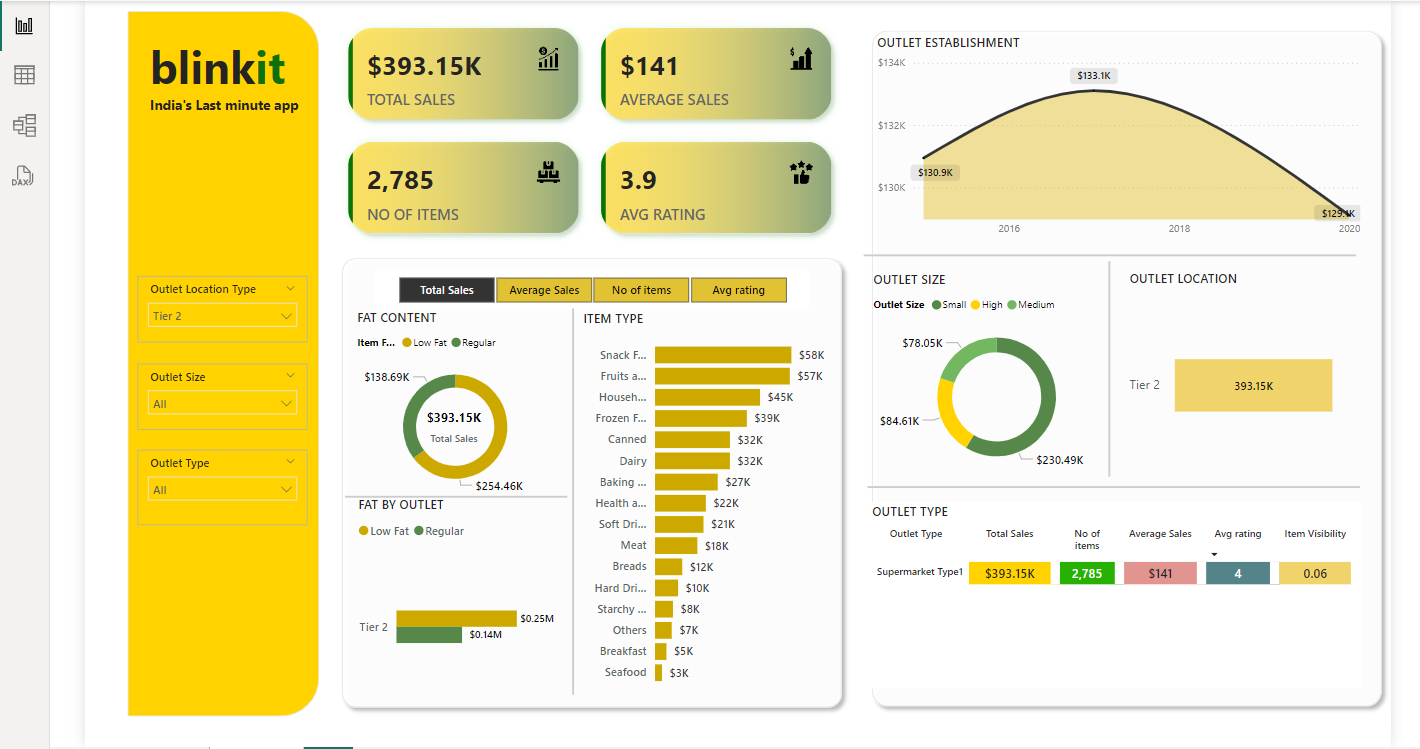

The dashboard page shown, as its layout file describes it:
{"tool":"powerbi","page":{"name":"Page 1","canvas":[1400,800],"ordinal":0},"visuals":[{"type":"shape","box":[45,10.5,205.6,756.4],"z":0},{"type":"textbox","box":[64.5,31.5,175.6,79.5],"z":1000},{"type":"textbox","box":[57,96.1,183.1,30],"z":2000},{"type":"cardVisual","fields":{"Data":["BlinkIT Grocery Data.Total Sales","BlinkIT Grocery Data.Average Sales","BlinkIT Grocery Data.No of items","BlinkIT Grocery Data.Avg rating"]},"box":[265.7,12,553.8,255.1],"z":3000},{"type":"shape","box":[267.2,267.2,553.8,499.8],"z":4000},{"type":"donutChart","title":"FAT CONTENT","fields":{"Y":["BlinkIT Grocery Data.Total Sales"],"Category":["BlinkIT Grocery Data.Item Fat Content"]},"box":[286.7,330.2,220.6,208.6],"z":5000},{"type":"slicer","fields":{"Values":["Metrics.Metrics"]},"box":[310.7,289.7,465.3,40.5],"z":6000},{"type":"card","fields":{"Values":["BlinkIT Grocery Data.Total Sales"]},"box":[343.7,414.2,105.1,82.5],"z":7000},{"type":"clusteredBarChart","title":"FAT BY OUTLET","fields":{"Y":["BlinkIT Grocery Data.Total Sales"],"Category":["BlinkIT Grocery Data.Outlet Location Type"],"Series":["BlinkIT Grocery Data.Item Fat Content"]},"box":[288.2,530.8,219.8,229.2],"z":8000},{"type":"shape","box":[279.2,523.8,238.6,15],"z":9000},{"type":"shape","box":[517.8,330.2,12,414.2],"z":10000},{"type":"barChart","title":"ITEM TYPE","fields":{"Y":["BlinkIT Grocery Data.Total Sales"],"Category":["BlinkIT Grocery Data.Item Type"]},"box":[529.8,331.7,274.7,412.7],"z":11000},{"type":"shape","box":[835.1,22.8,564.3,742.6],"z":12000},{"type":"lineChart","title":"OUTLET ESTABLISHMENT","fields":{"Category":["BlinkIT Grocery Data.Outlet Establishment Year"],"Y":["BlinkIT Grocery Data.Total Sales"]},"box":[845,34.5,528.3,226.6],"z":13000},{"type":"shape","box":[834.5,267.2,528.3,12],"z":14000},{"type":"donutChart","title":"OUTLET SIZE","fields":{"Y":["BlinkIT Grocery Data.Total Sales"],"Category":["BlinkIT Grocery Data.Outlet Size"]},"box":[840.5,289.7,274.7,225.1],"z":15000},{"type":"shape","box":[1092.6,279.2,12,231.1],"z":16000},{"type":"funnel","title":"OUTLET LOCATION","fields":{"Category":["BlinkIT Grocery Data.Outlet Location Type"],"Y":["Sum(BlinkIT Grocery Data.Sales)"]},"box":[1115.1,288.2,232.6,229.6],"z":17000},{"type":"shape","box":[839,510.3,528.3,21],"z":18000},{"type":"pivotTable","title":"OUTLET TYPE","fields":{"Rows":["BlinkIT Grocery Data.Outlet Type"],"Values":["BlinkIT Grocery Data.Total Sales","BlinkIT Grocery Data.No of items","BlinkIT Grocery Data.Average Sales","BlinkIT Grocery Data.Avg rating","Avg(BlinkIT Grocery Data.Item Visibility)"]},"box":[839,537.3,531.3,199.6],"z":19000},{"type":"slicer","fields":{"Values":["BlinkIT Grocery Data.Outlet Location Type"]},"box":[56.3,294.9,182.3,71],"z":20000},{"type":"slicer","fields":{"Values":["BlinkIT Grocery Data.Outlet Size"]},"box":[56.3,388.7,182.3,71],"z":21000},{"type":"slicer","fields":{"Values":["BlinkIT Grocery Data.Outlet Type"]},"box":[56.3,481.2,182.3,80.4],"z":22000}]}

Visuals, with their boxes on the page's 1400x800 design canvas (x1, y1, x2, y2). These are canvas units, not pixel positions in the 1420x749 screenshot, which may show the page scaled, cropped or inside an application window:
shape: locate(45, 10, 251, 767)
textbox: locate(64, 32, 240, 111)
textbox: locate(57, 96, 240, 126)
cardVisual - BlinkIT Grocery Data.Total Sales x BlinkIT Grocery Data.Average Sales: locate(266, 12, 820, 267)
shape: locate(267, 267, 821, 767)
"FAT CONTENT" donutChart: locate(287, 330, 507, 539)
slicer - Metrics.Metrics: locate(311, 290, 776, 330)
card - BlinkIT Grocery Data.Total Sales: locate(344, 414, 449, 497)
"FAT BY OUTLET" clusteredBarChart: locate(288, 531, 508, 760)
shape: locate(279, 524, 518, 539)
shape: locate(518, 330, 530, 744)
"ITEM TYPE" barChart: locate(530, 332, 804, 744)
shape: locate(835, 23, 1399, 765)
"OUTLET ESTABLISHMENT" lineChart: locate(845, 34, 1373, 261)
shape: locate(834, 267, 1363, 279)
"OUTLET SIZE" donutChart: locate(840, 290, 1115, 515)
shape: locate(1093, 279, 1105, 510)
"OUTLET LOCATION" funnel: locate(1115, 288, 1348, 518)
shape: locate(839, 510, 1367, 531)
"OUTLET TYPE" pivotTable: locate(839, 537, 1370, 737)
slicer - BlinkIT Grocery Data.Outlet Location Type: locate(56, 295, 239, 366)
slicer - BlinkIT Grocery Data.Outlet Size: locate(56, 389, 239, 460)
slicer - BlinkIT Grocery Data.Outlet Type: locate(56, 481, 239, 562)
